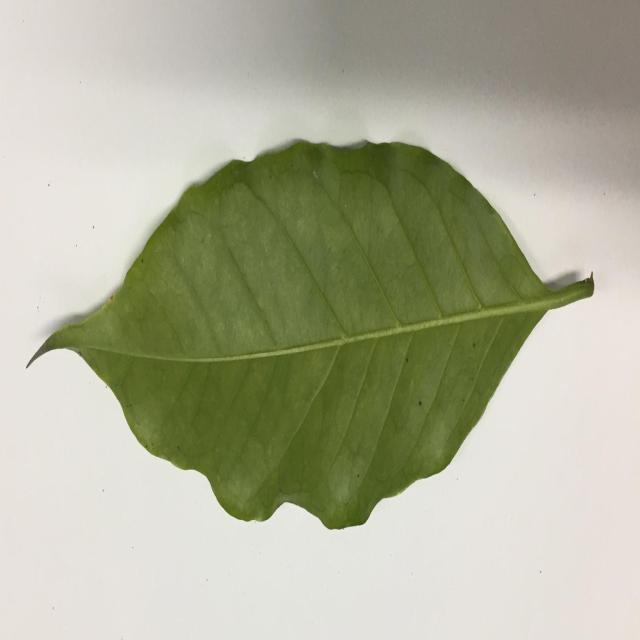nodisease: (27, 139, 594, 529)
